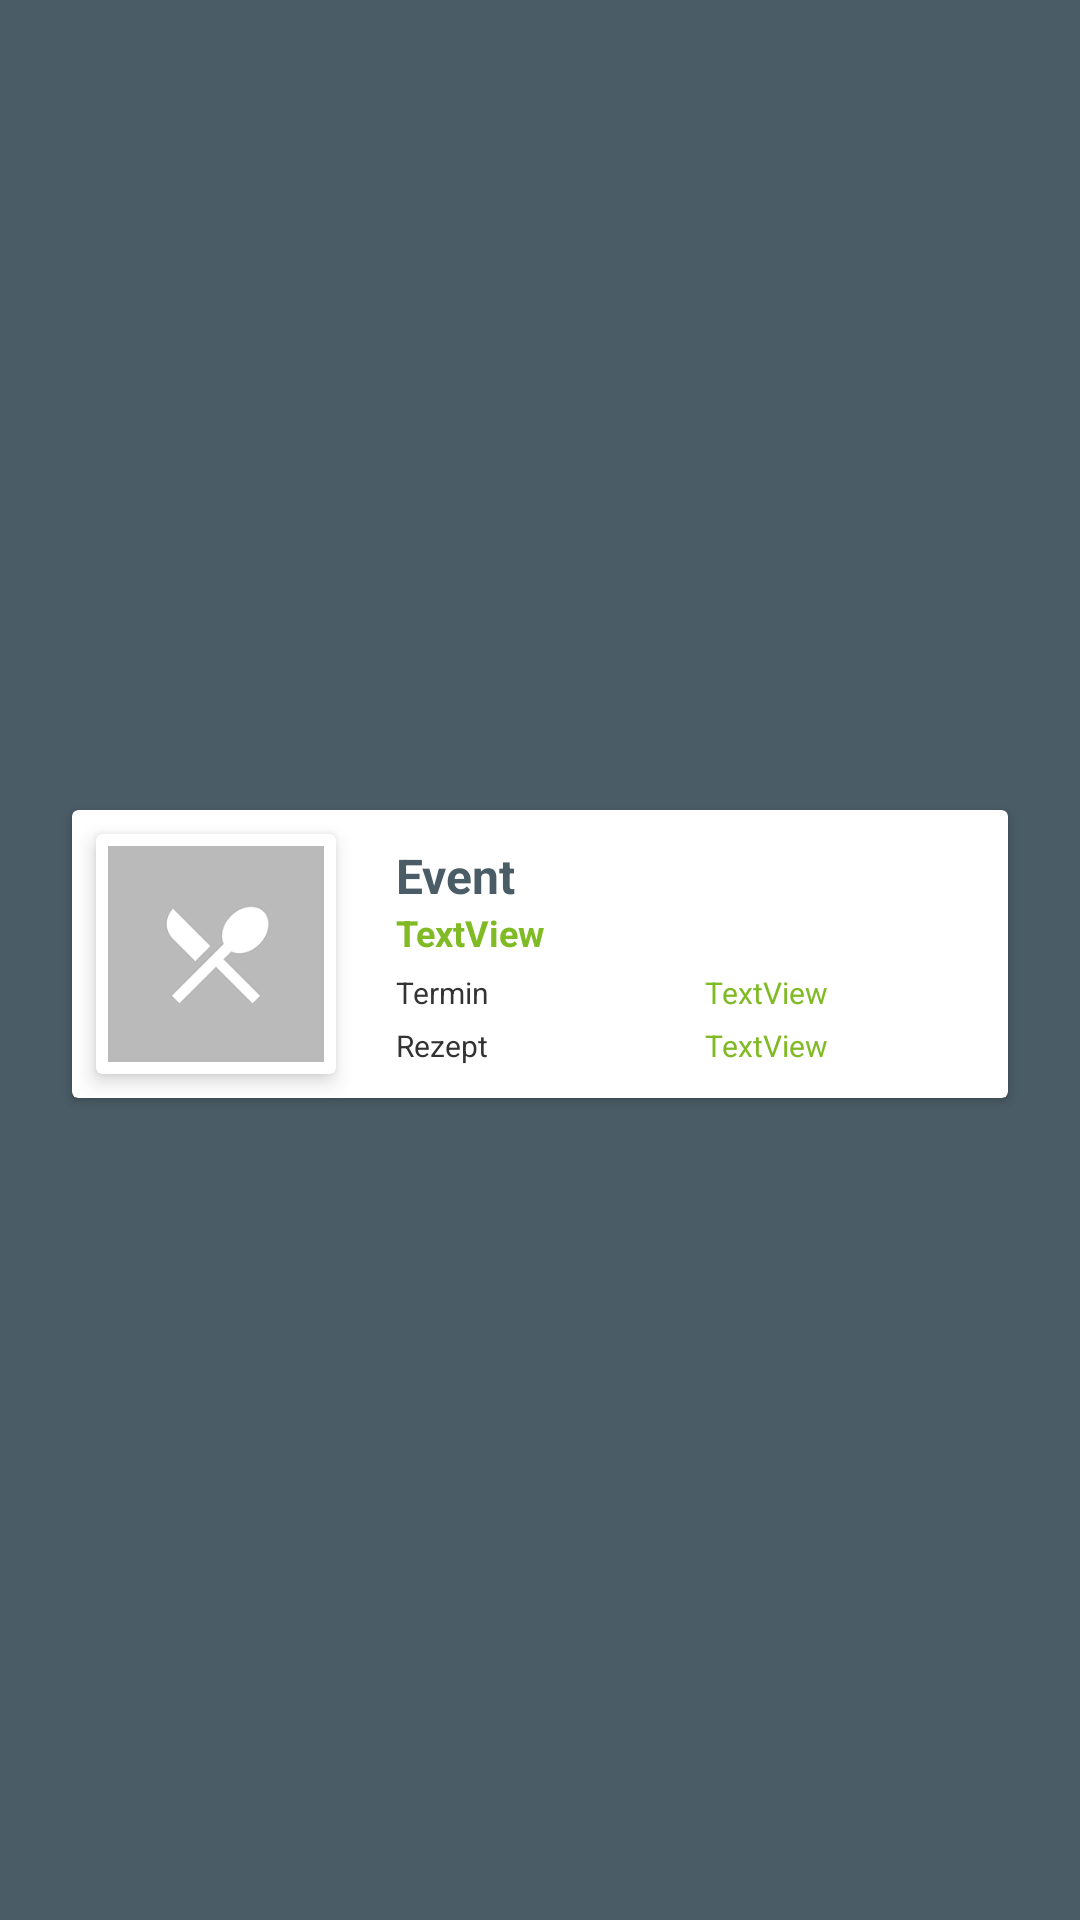

Icons on this 1080x1920 Android screen, each with its box as (x1,y1,x2,y2):
recipe: (108,846,324,1062)
